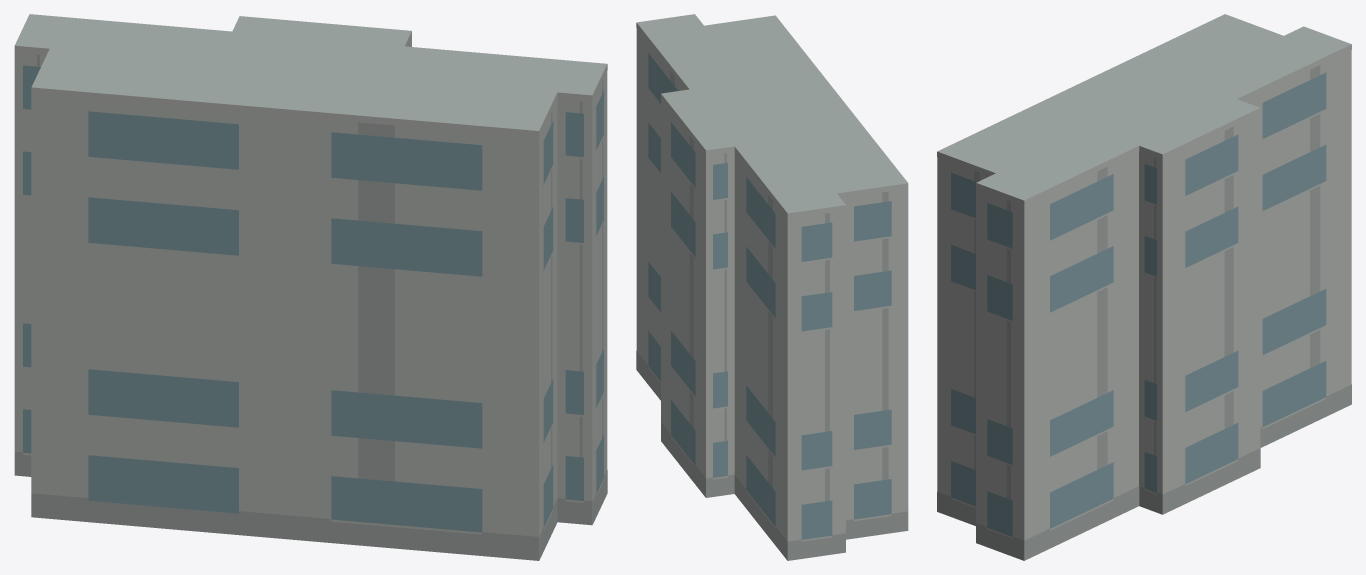
Rendered from survey-upis-32783941.glb.
3 renders of one model, left to right at view 1: azimuth 30°, elevation 25°; view 2: azimuth 150°, elevation 25°; view 3: azimuth 270°, elevation 25°, orthographic. The views are drawn at different scales.
Visible parts, largest first — view 1: survey-upis-32783941.tmp; view 2: survey-upis-32783941.tmp; view 3: survey-upis-32783941.tmp.
Part boxes in pixels (<box>): survey-upis-32783941.tmp: <box>14,14,607,560</box>; survey-upis-32783941.tmp: <box>636,14,908,560</box>; survey-upis-32783941.tmp: <box>937,14,1351,560</box>.
Size of the model in its own units: 16.95 by 15.25 by 15.91.
